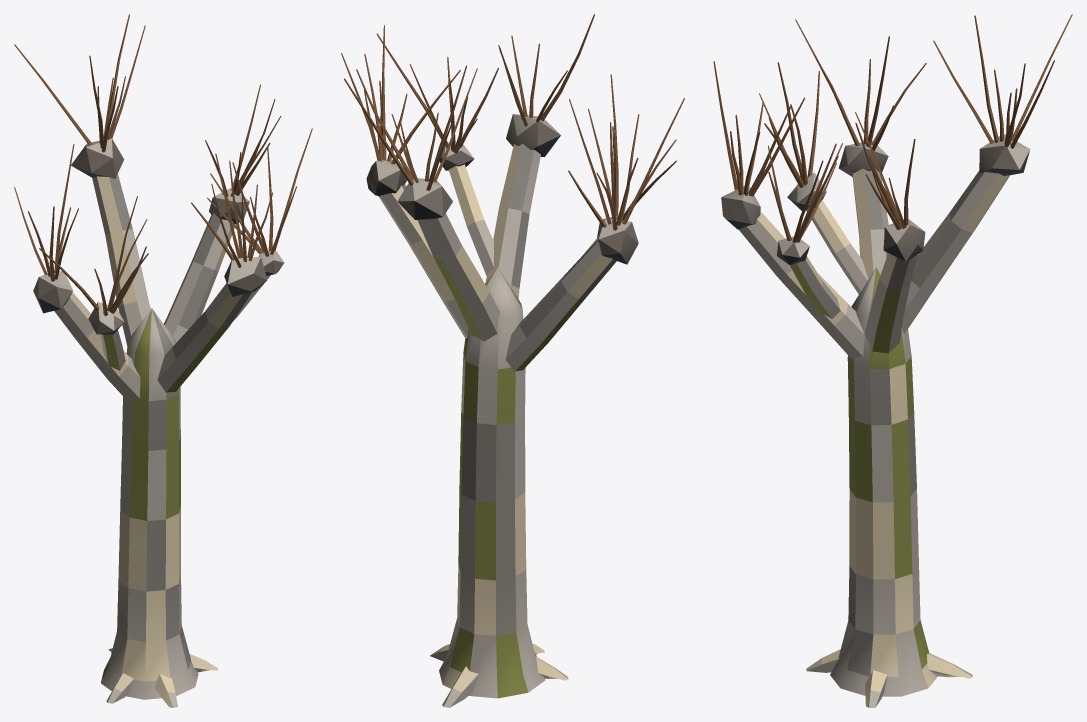
Rendered from SC_Nat_Plane_Tree_Pollarded.gltf.
3 views of the same model, side by side, from view 1: azimuth 30°, elevation 25°; view 2: azimuth 150°, elevation 25°; view 3: azimuth 270°, elevation 25° (orthographic). The views are drawn at different scales.
Visible parts, largest first — view 1: SC_Nat_Plane_Tree_Pollarded; view 2: SC_Nat_Plane_Tree_Pollarded; view 3: SC_Nat_Plane_Tree_Pollarded.
Part boxes in pixels (<box>): SC_Nat_Plane_Tree_Pollarded: <box>14,14,312,707</box>; SC_Nat_Plane_Tree_Pollarded: <box>341,14,684,707</box>; SC_Nat_Plane_Tree_Pollarded: <box>713,14,1072,707</box>.
Size of the model in its own units: 2.86 by 5.93 by 2.97.
1 material, 1 textured.
